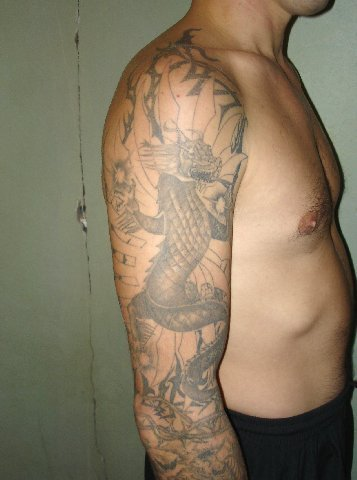tatu6_drakon: (102, 34, 281, 480)
